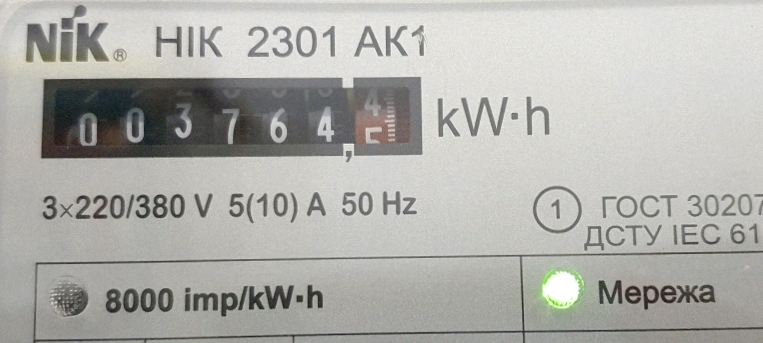0: (122, 104, 145, 144), (75, 109, 99, 147)
3: (170, 100, 193, 140)
4: (315, 104, 335, 143), (361, 85, 383, 117)
5: (361, 124, 383, 146)
6: (267, 105, 288, 144)
7: (218, 104, 242, 146)
screen: (25, 59, 437, 173)
